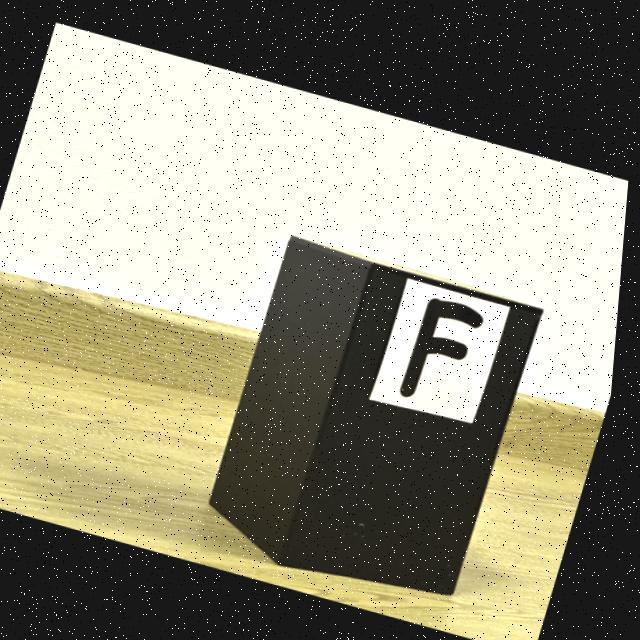F: (406, 293, 488, 391)
